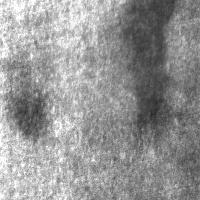patches: (45, 0, 193, 124), (82, 0, 200, 117), (124, 1, 173, 117), (9, 88, 49, 140)
